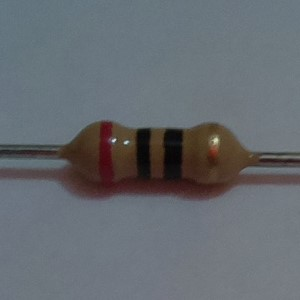black_band: (161, 126, 186, 183), (135, 125, 153, 182)
gold_band: (205, 121, 222, 188)
red_band: (97, 120, 115, 184)
